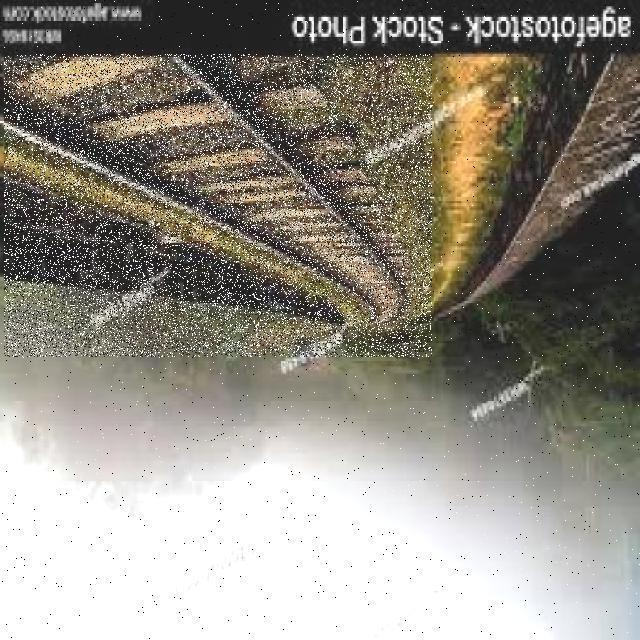rail: (4, 54, 432, 357)
